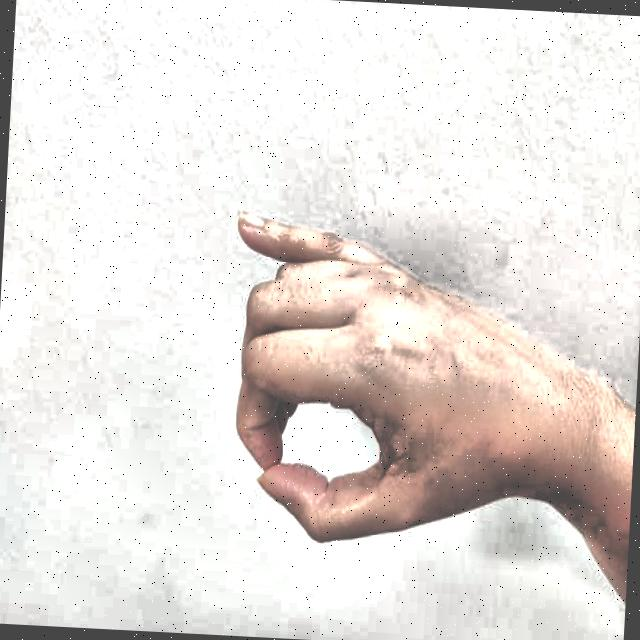Ou: (195, 164, 554, 575)
